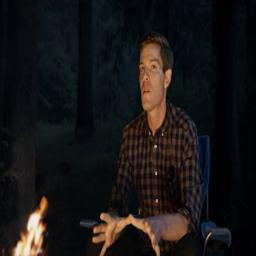fire: (12, 195, 47, 256)
